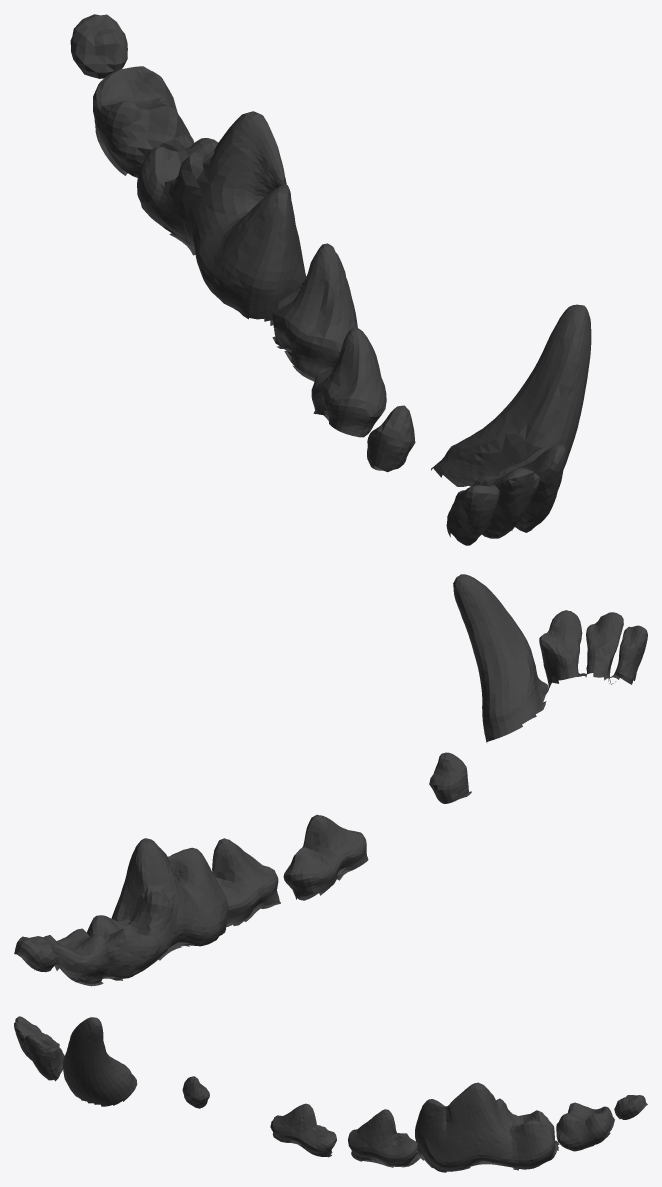
The picture shows the model from 3 angles, top to bottom: view 1: azimuth 30°, elevation 25°; view 2: azimuth 150°, elevation 25°; view 3: azimuth 270°, elevation 25°; orthographic projection. The views are drawn at different scales.
Parts seen in each view (by area): view 1: Group3536; view 2: Group3536; view 3: Group3536.
Part boxes in pixels (x1,y1,x2,y2): Group3536: (70,14,591,545); Group3536: (14,574,647,986); Group3536: (14,1016,647,1172).
Size of the model in its own units: 0.2565 by 0.2453 by 1.
Materials: 1 (1 with a texture image).
